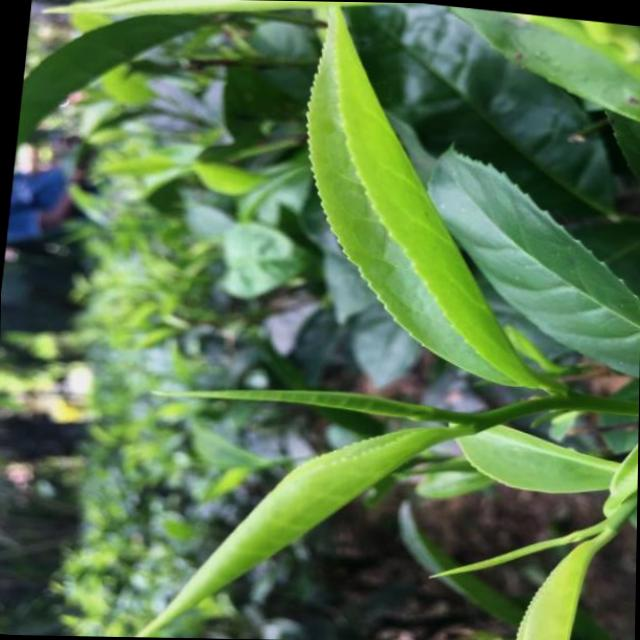Stem: (473, 408, 499, 430)
